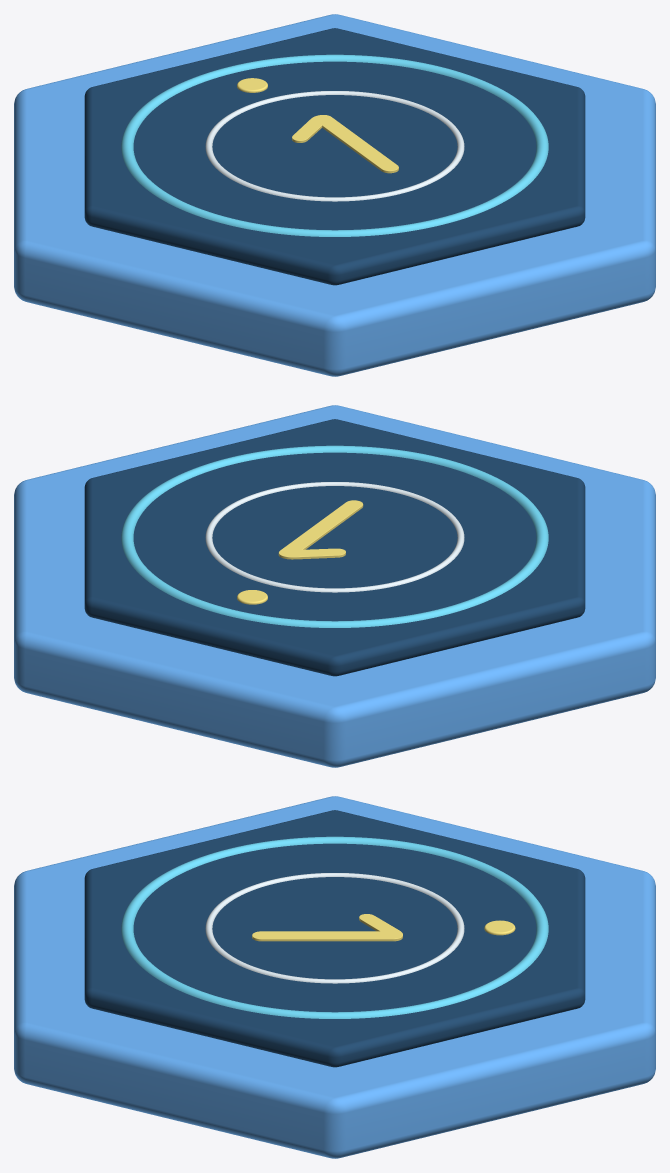
The model's file is achievement_workout_1.glb.
3 views of the same model, one above another, from view 1: azimuth 30°, elevation 25°; view 2: azimuth 150°, elevation 25°; view 3: azimuth 270°, elevation 25° (orthographic).
Visible parts, largest first — view 1: inset enamel hex face, colored hex milestone border, inner milestone ring, milestone highlight ring, imprinted 1 workout count; view 2: inset enamel hex face, colored hex milestone border, inner milestone ring, milestone highlight ring, imprinted 1 workout count; view 3: inset enamel hex face, colored hex milestone border, inner milestone ring, milestone highlight ring, imprinted 1 workout count.
Boxes of the visible parts, <box> form: inset enamel hex face: <box>84,28,585,285</box>; colored hex milestone border: <box>14,14,655,376</box>; inner milestone ring: <box>121,54,548,236</box>; milestone highlight ring: <box>205,91,464,201</box>; imprinted 1 workout count: <box>292,115,398,173</box>; inset enamel hex face: <box>84,419,585,676</box>; colored hex milestone border: <box>14,405,655,767</box>; inner milestone ring: <box>121,445,548,627</box>; milestone highlight ring: <box>205,482,464,592</box>; imprinted 1 workout count: <box>278,500,363,559</box>; inset enamel hex face: <box>84,810,585,1067</box>; colored hex milestone border: <box>14,796,655,1158</box>; inner milestone ring: <box>121,836,548,1018</box>; milestone highlight ring: <box>205,873,464,983</box>; imprinted 1 workout count: <box>252,914,402,941</box>.
Bounding box in the file's own units: 1.98 × 0.246 × 1.73.
